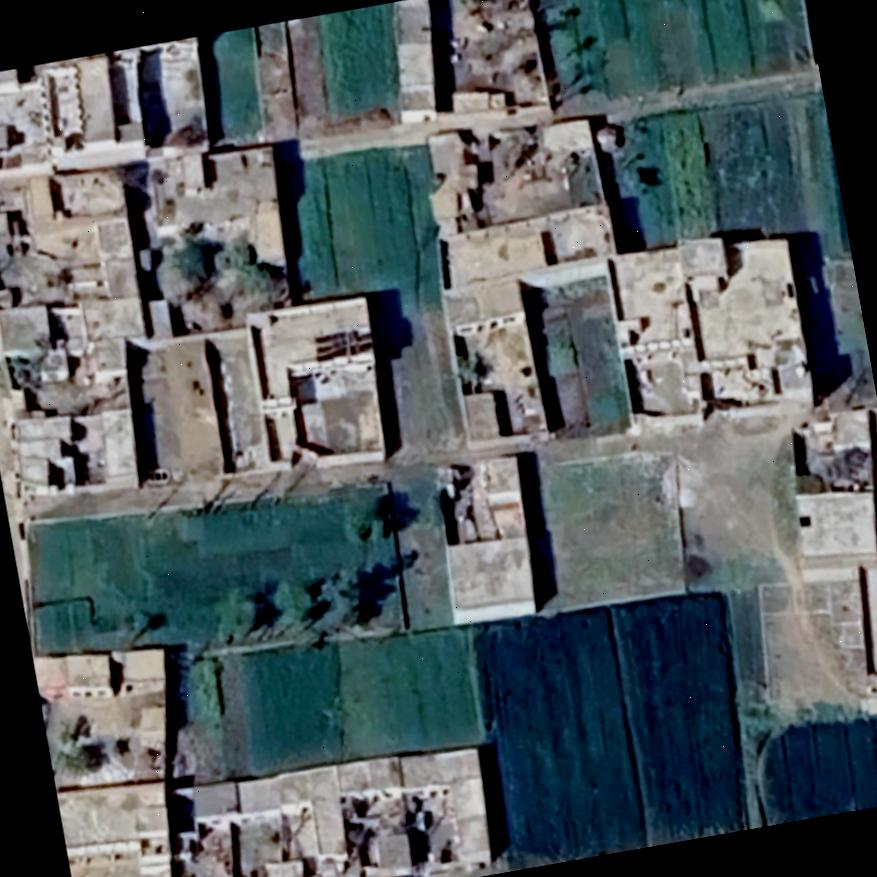Solarpanel: (308, 321, 378, 367)
